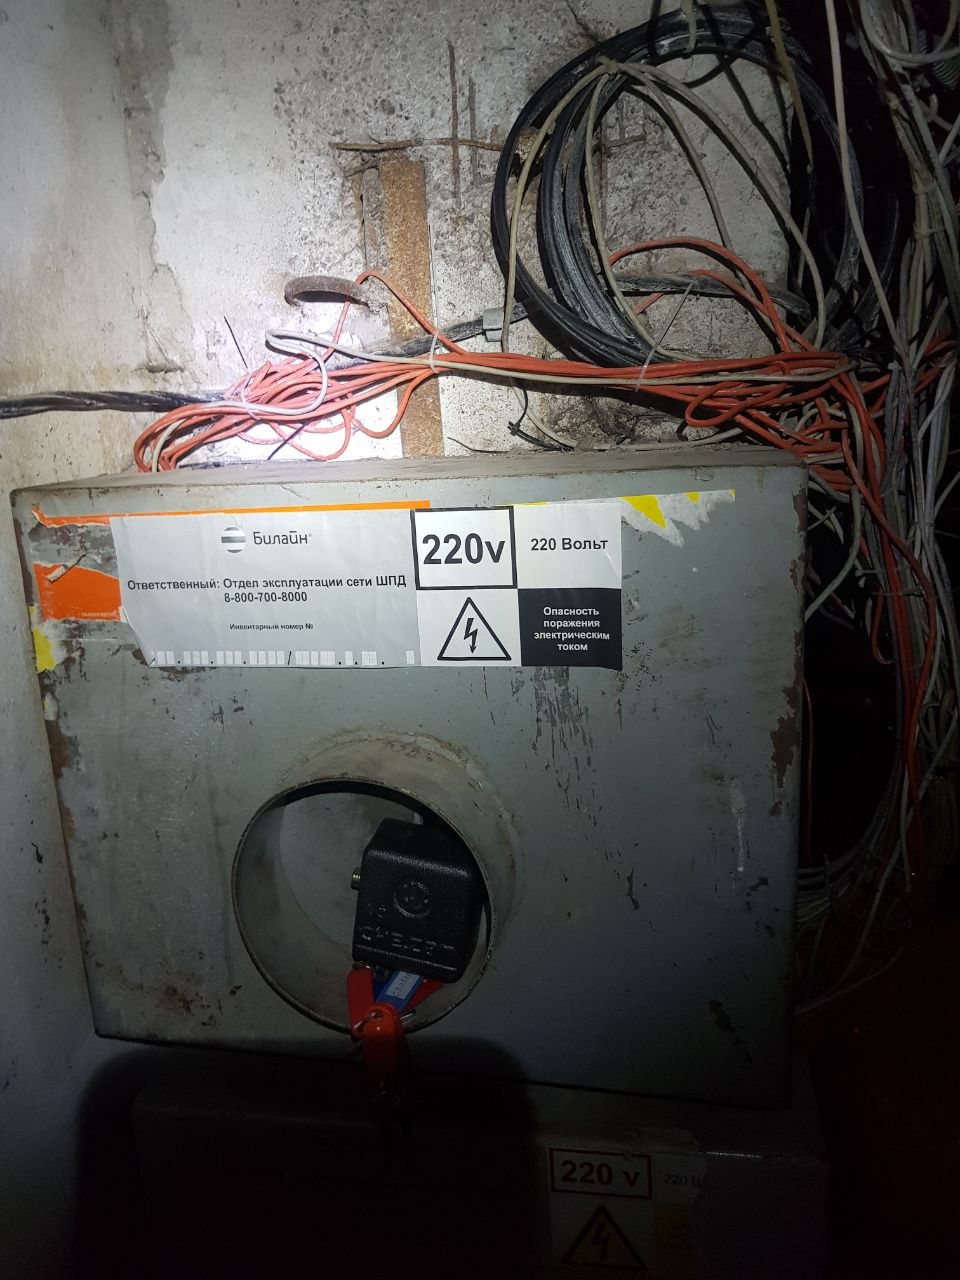shta-3: (7, 439, 810, 1050)
